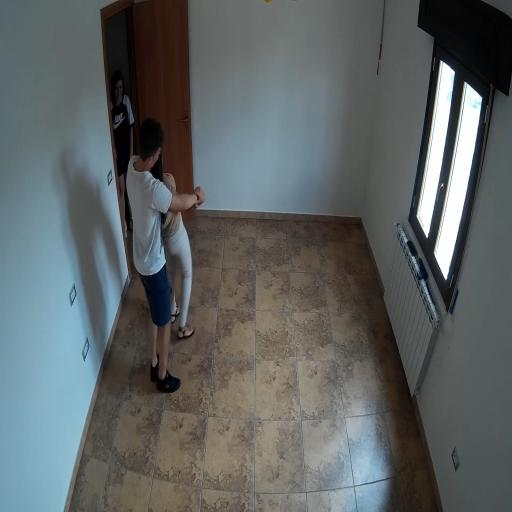violencia: (107, 106, 214, 402)
